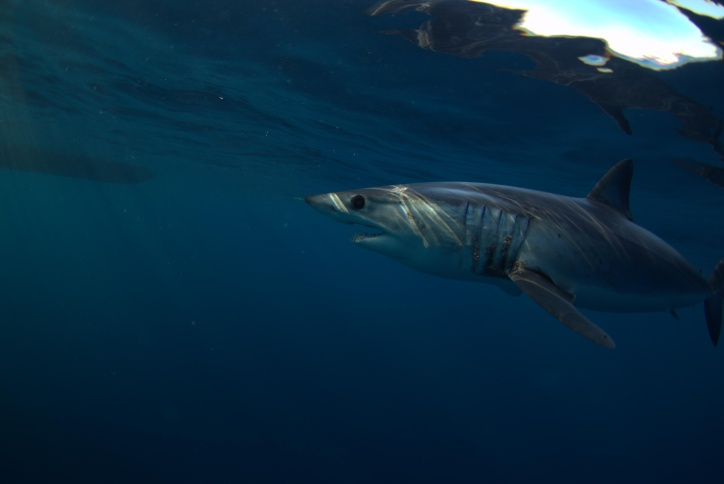Mako: (287, 143, 724, 363)
